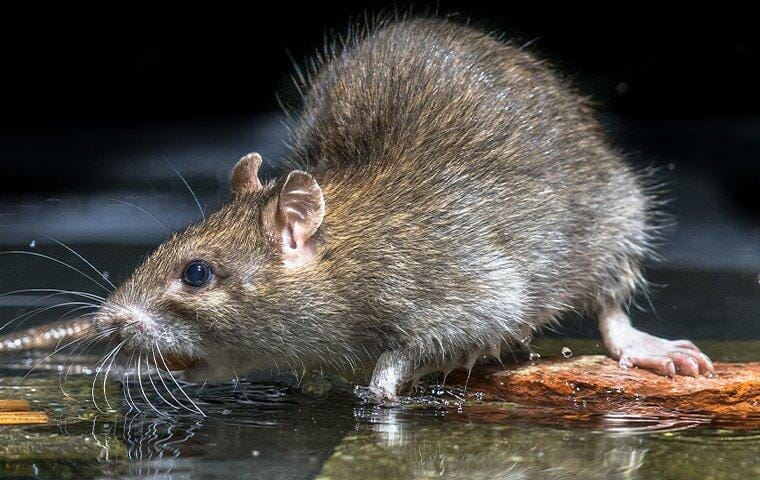Rat: (68, 13, 720, 421)
